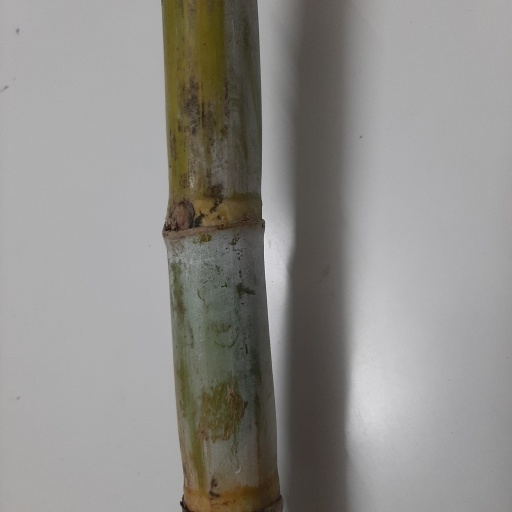Bud: (170, 201, 194, 231)
